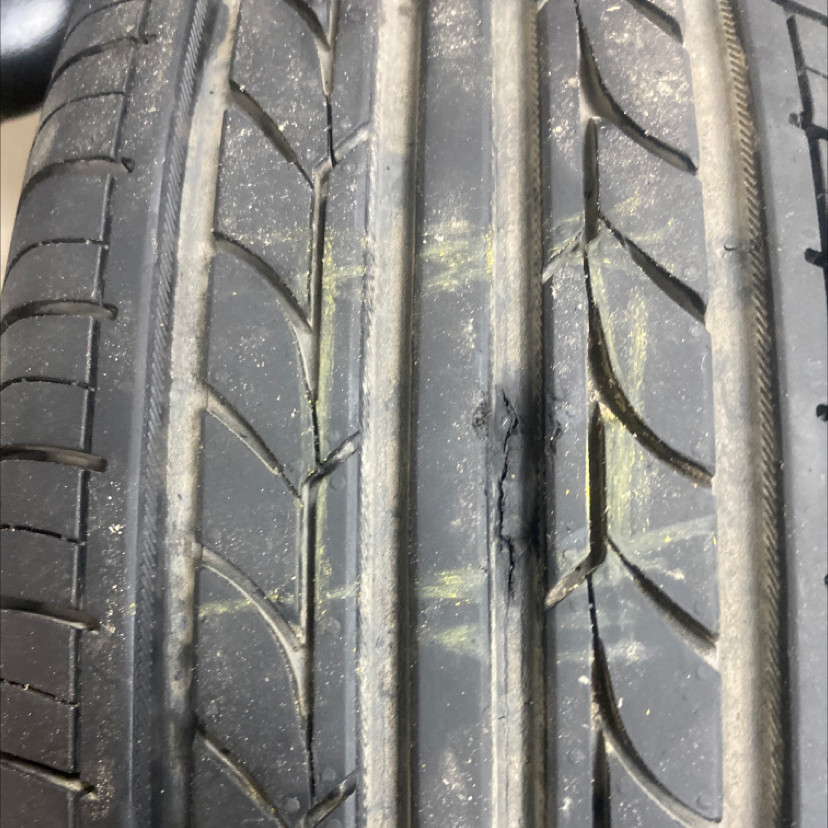tr: (491, 389, 534, 609)
